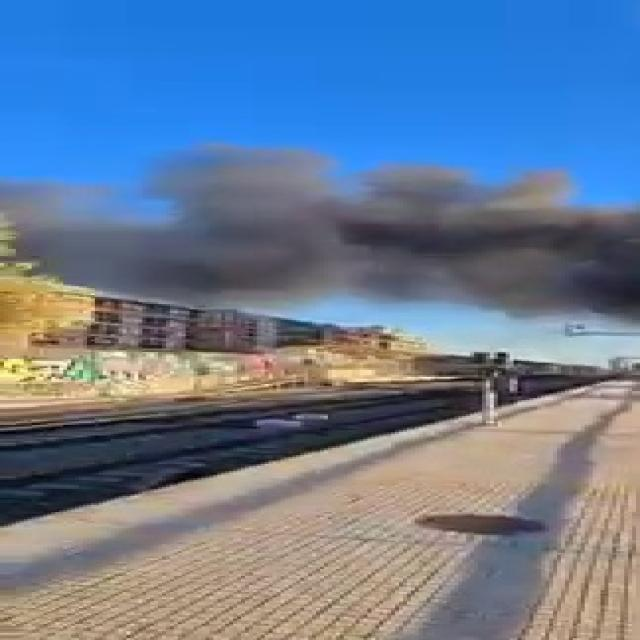Smoke: (28, 132, 640, 326)
